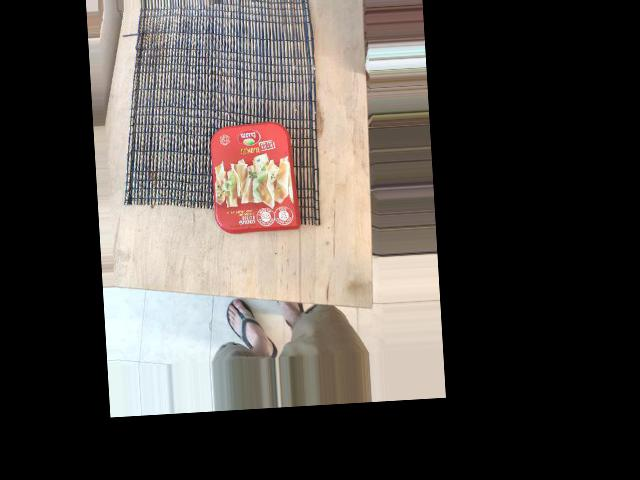cheese: (113, 108, 251, 203)
